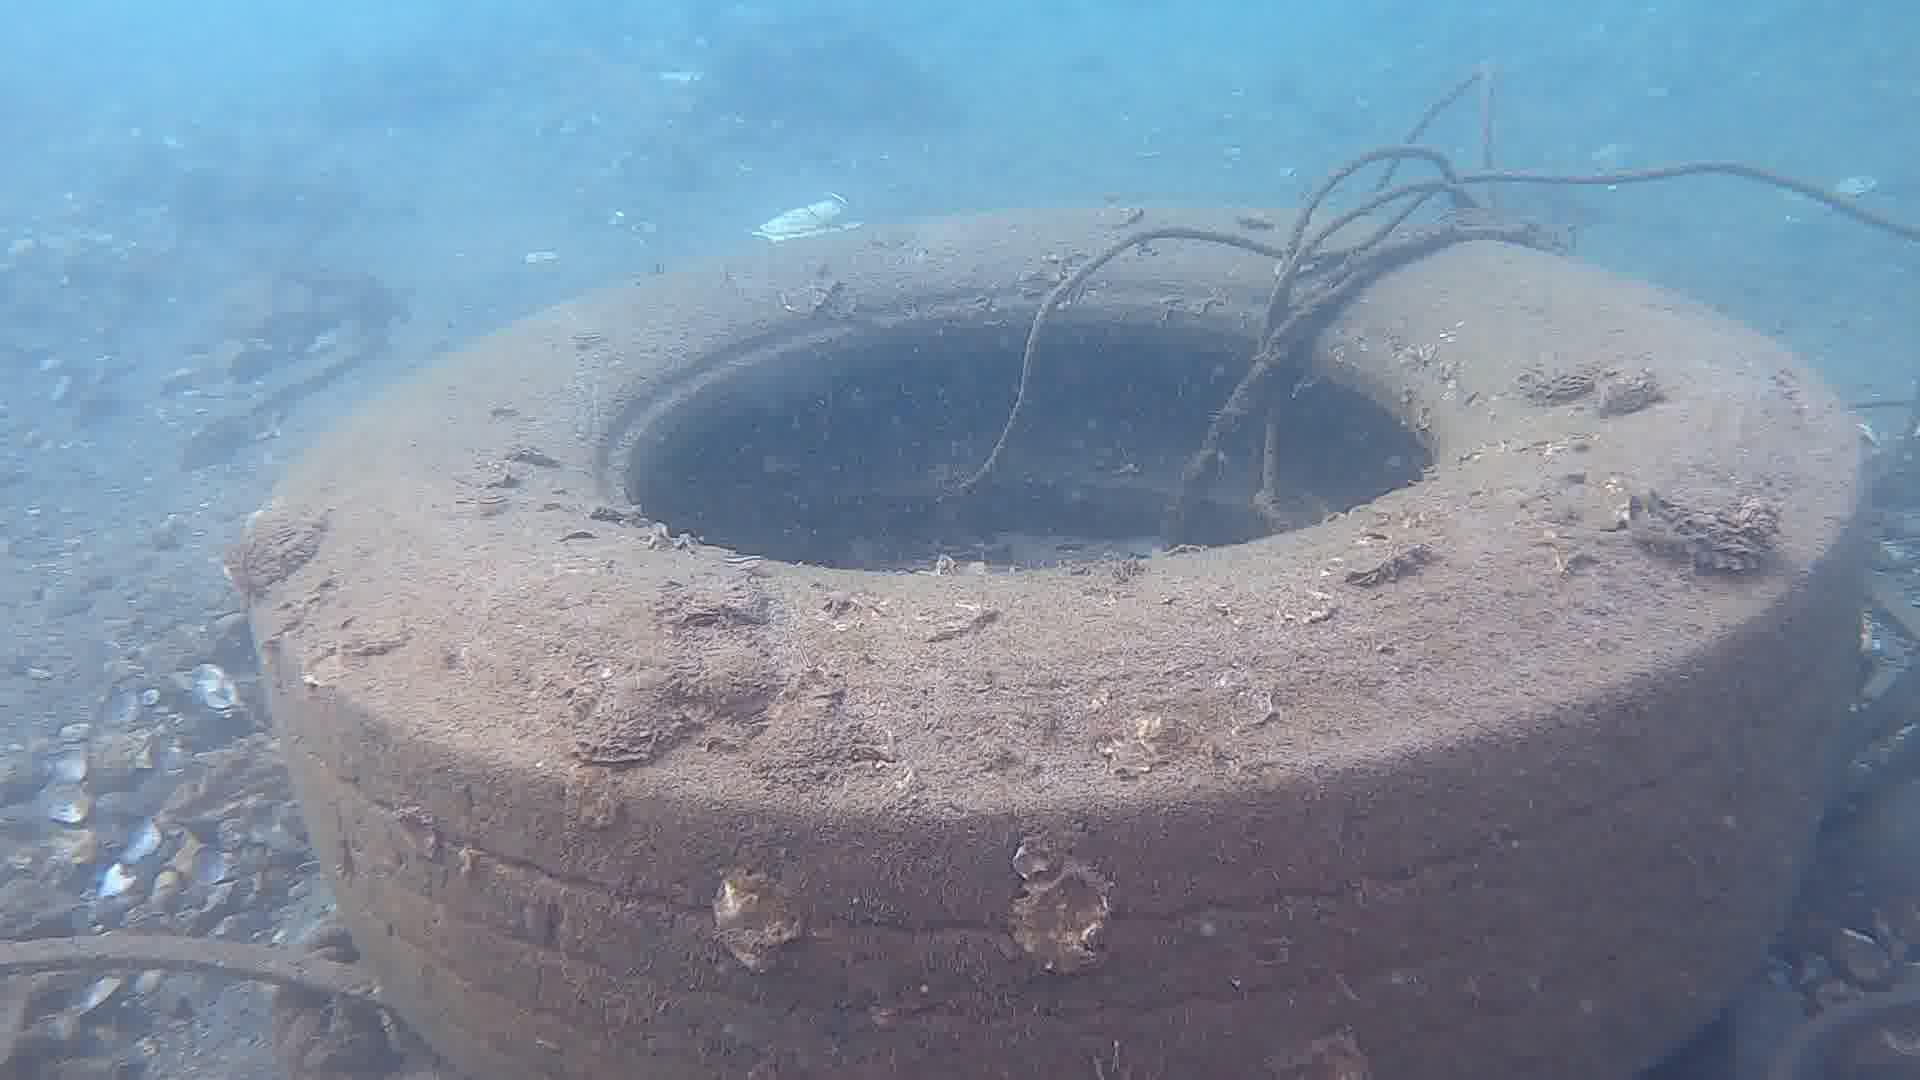bundle of ropes: (956, 57, 1920, 553)
tire: (241, 200, 1870, 1080)
